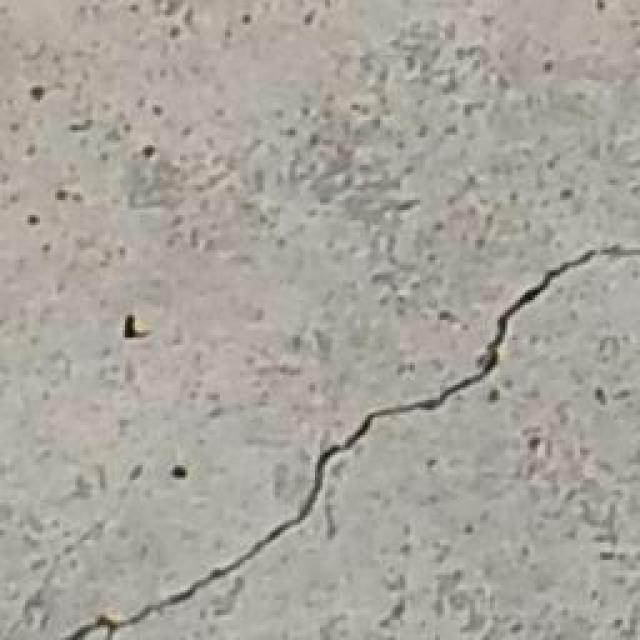concrete-crack: (70, 246, 640, 640)
